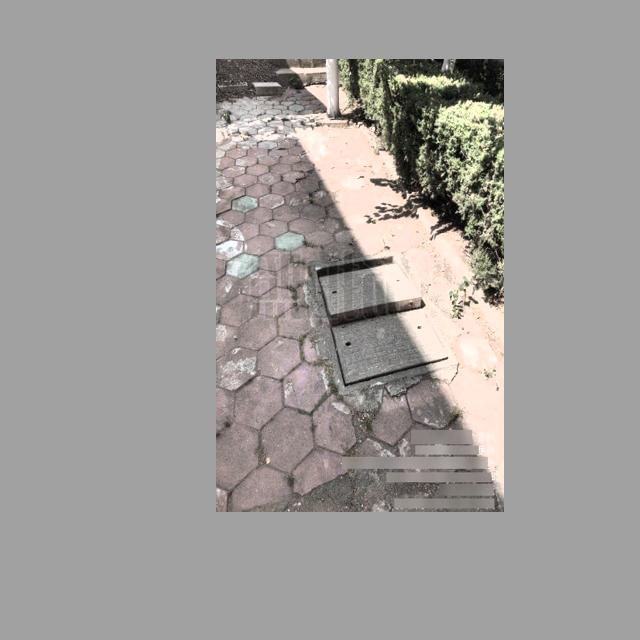uncovered: (308, 250, 458, 396)
